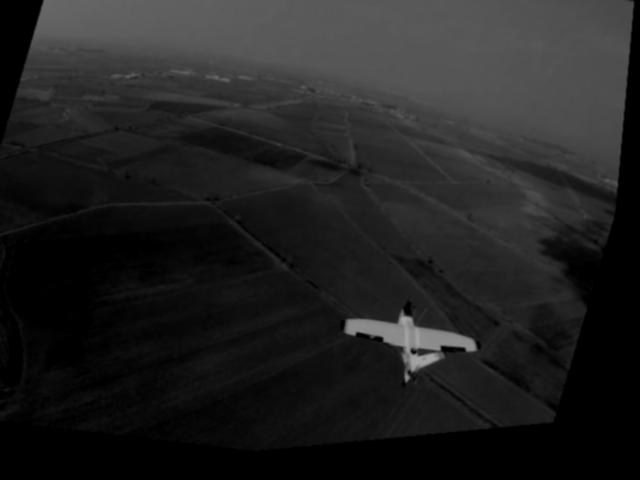hedef: (295, 240, 534, 455)
